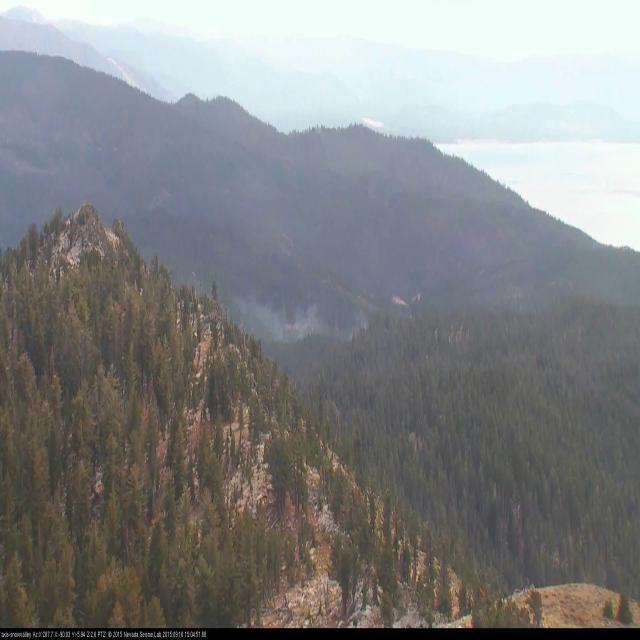smoke: (229, 277, 376, 354)
